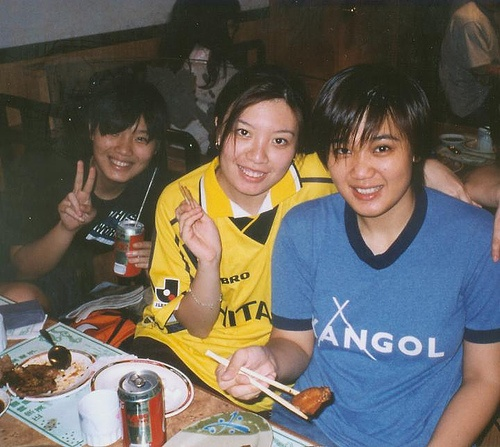head: (315, 61, 424, 221), (220, 66, 300, 197), (87, 81, 158, 188)
person: (217, 65, 493, 435), (125, 63, 326, 418), (2, 65, 174, 323), (148, 2, 263, 160)
